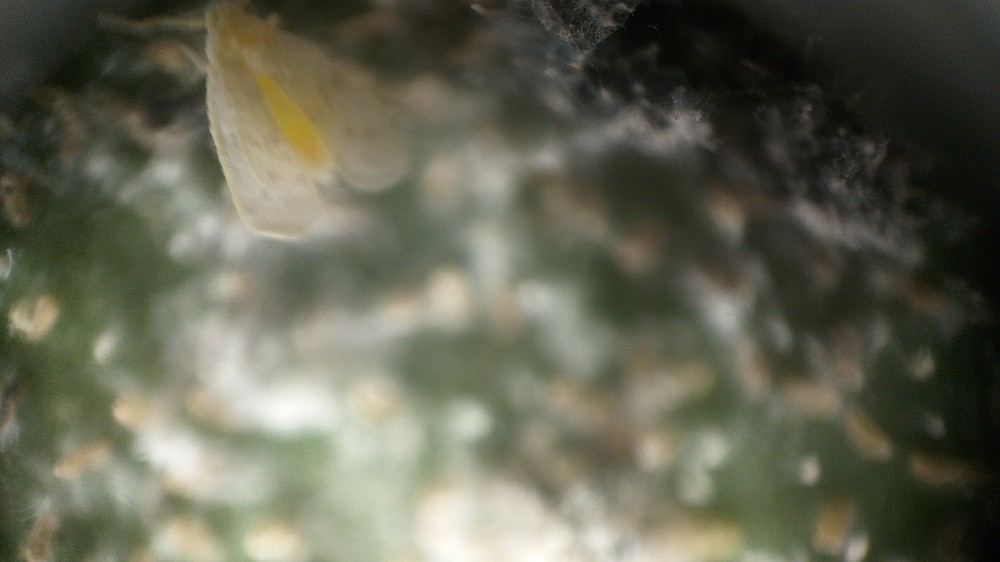Mosca Blanca: (93, 3, 454, 252)
